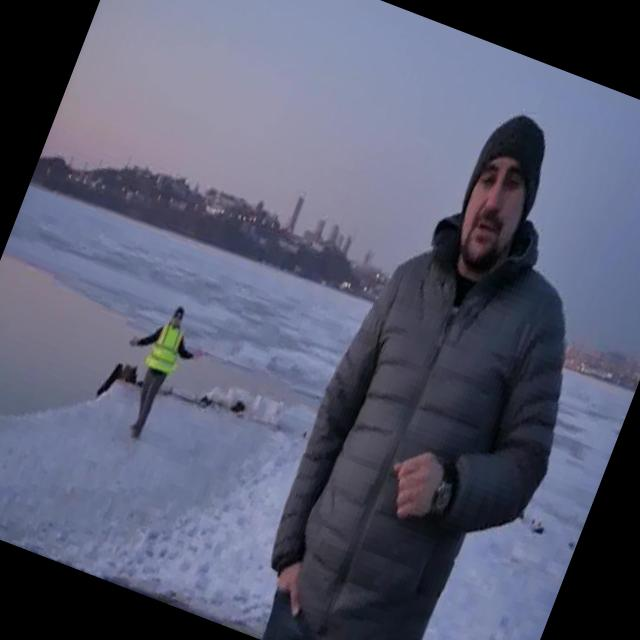safety_vest: (142, 320, 190, 381)
